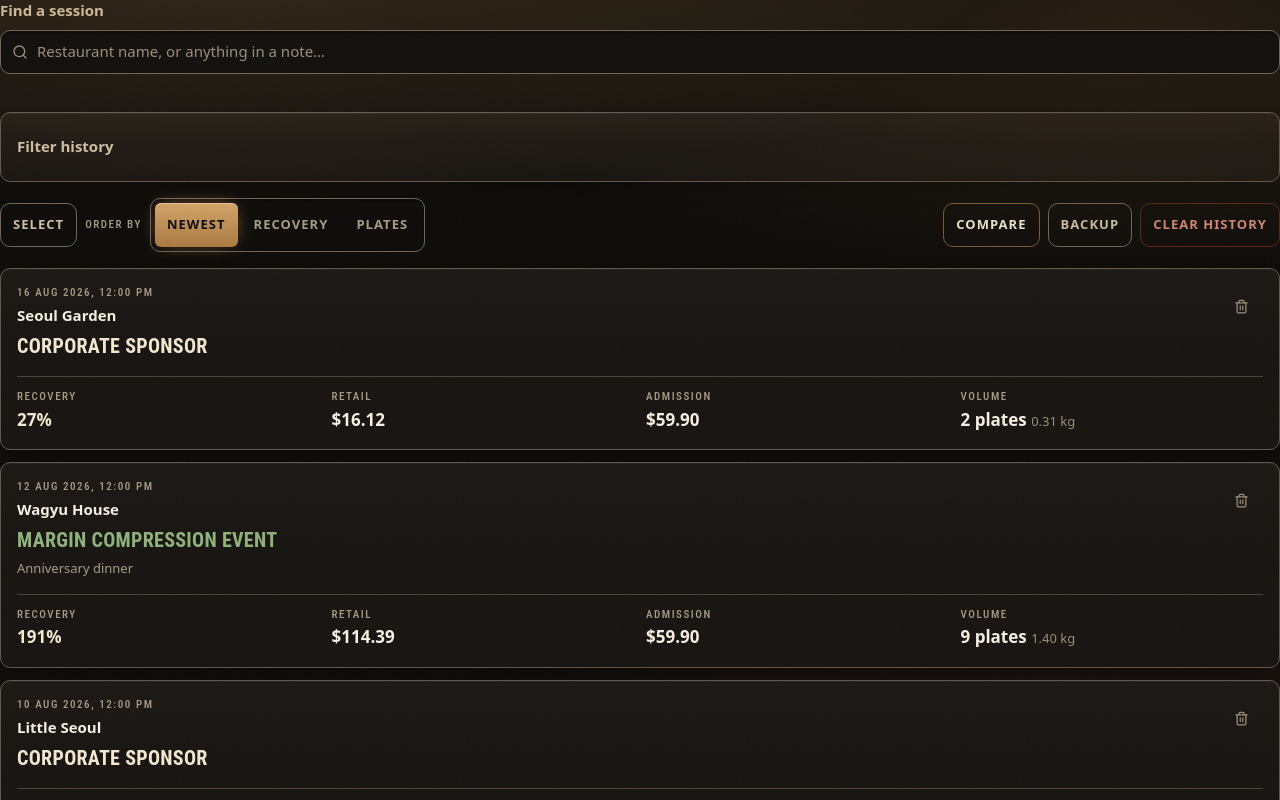
Test: HistoryList › requires confirmation before clearing the whole file
Click the button "Clear history". click: (1210, 225)
box: [1140,203,1279,247]
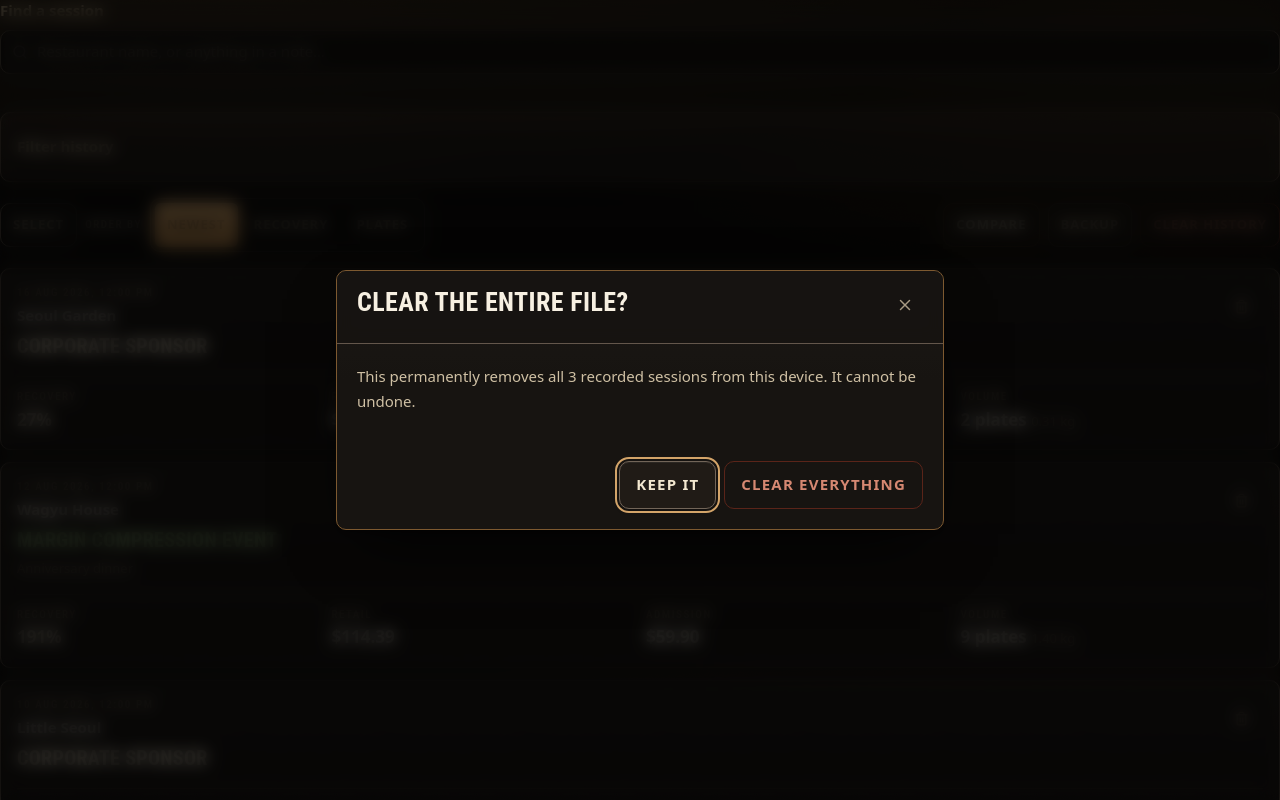
Check: the text "permanently removes all 3 recorded sessions" is shown, box [357,366,916,410]
Click the button "Keep it". click: (668, 485)
box: [619,461,716,509]
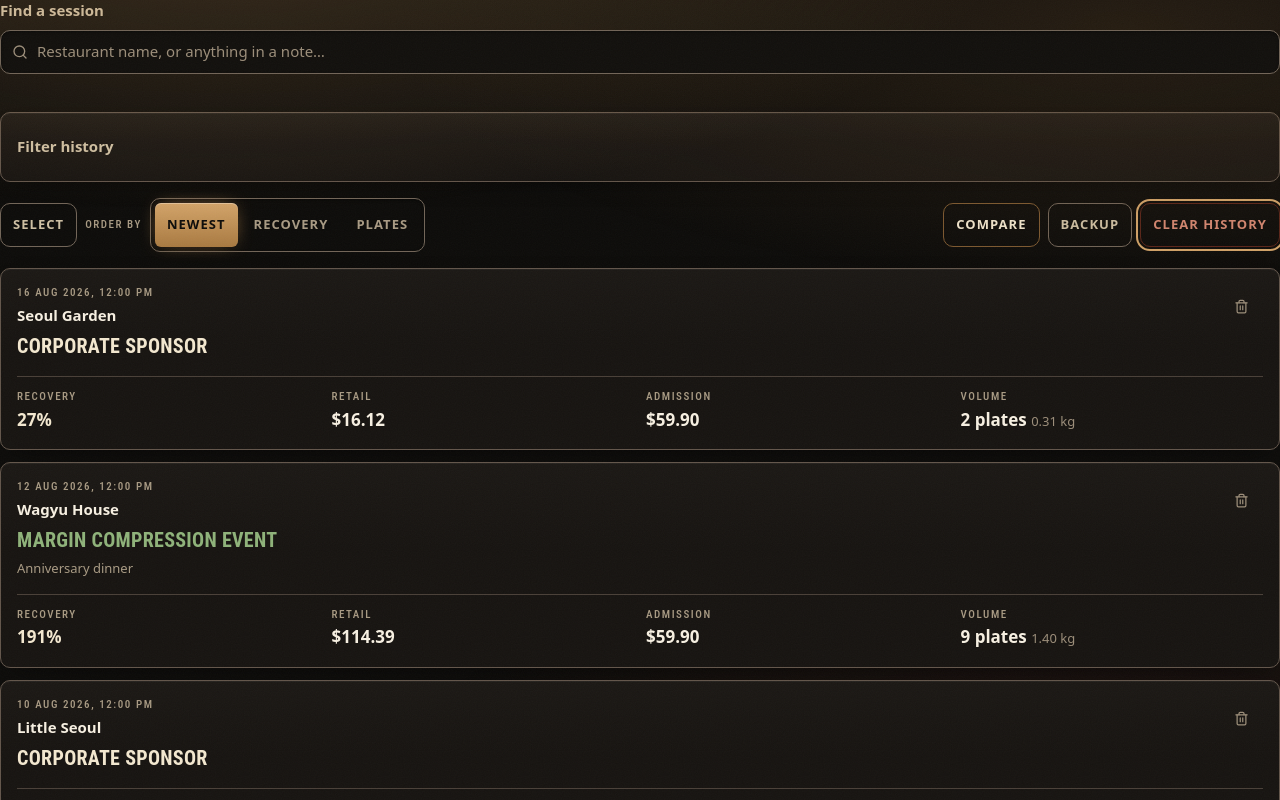
Click the button "Clear history". click: (1210, 225)
box: [1140,203,1279,247]
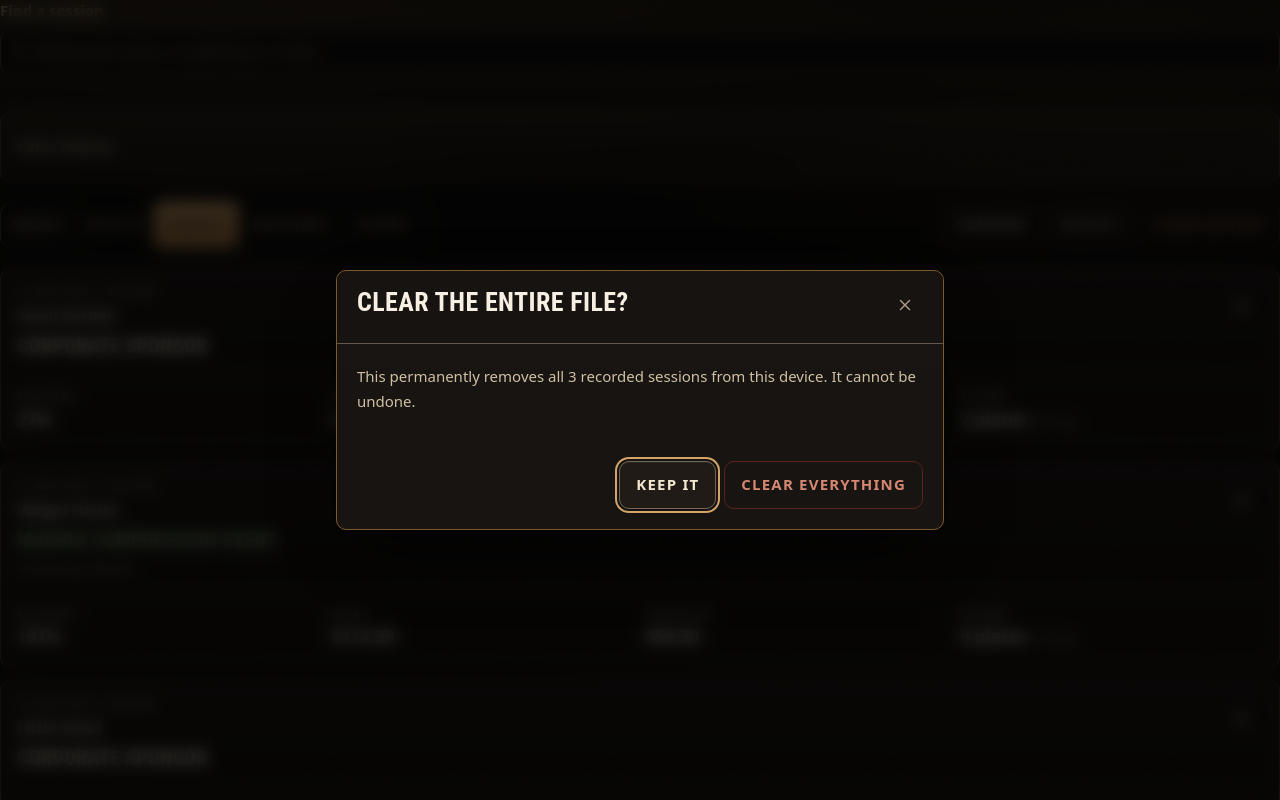
Click the button "Clear everything". click: (824, 485)
box: [724,461,923,509]
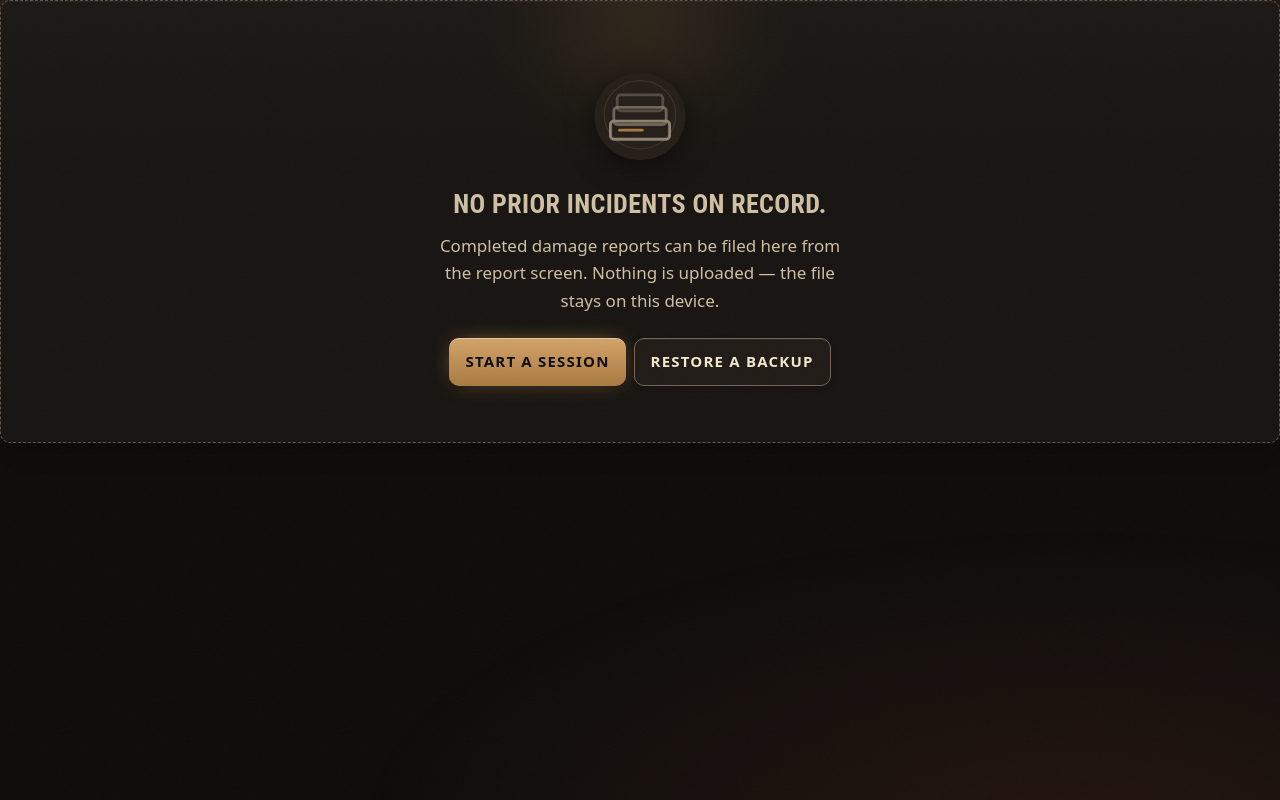
Check: the text "No prior incidents on record." is shown, box [453,189,827,219]
